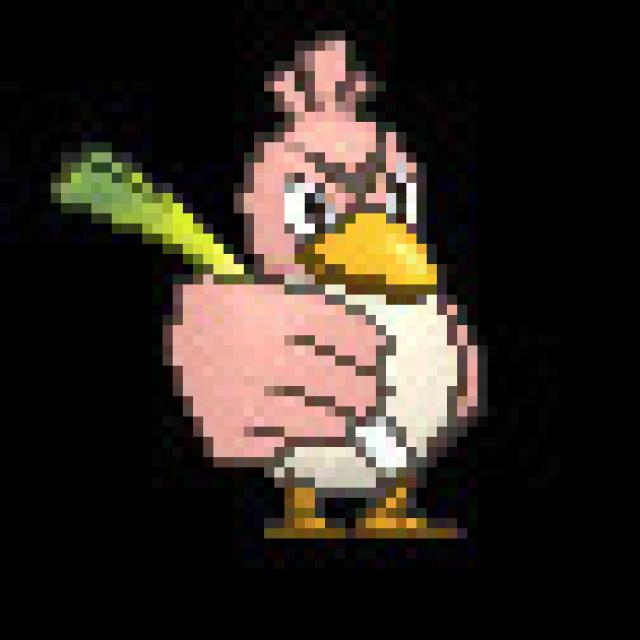Farfetchd: (155, 32, 500, 538)
